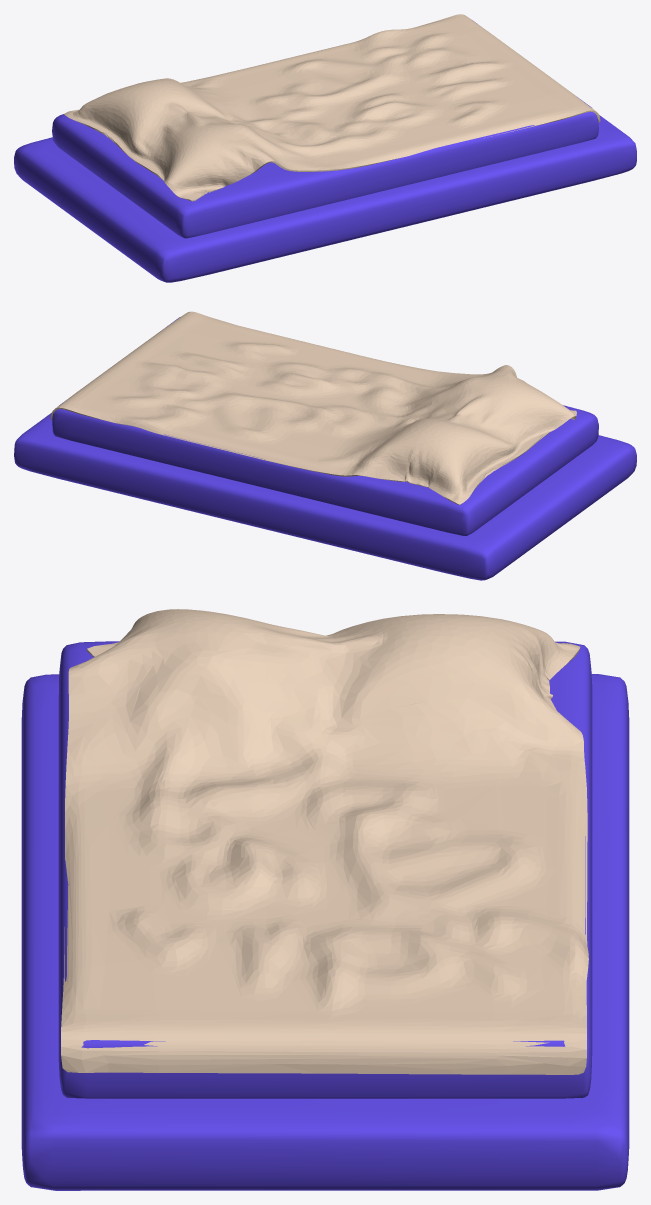
File: Bed.fbx
The picture shows the model from 3 angles, top to bottom: view 1: azimuth 30°, elevation 25°; view 2: azimuth 150°, elevation 25°; view 3: azimuth 270°, elevation 25°; orthographic projection. The views are drawn at different scales.
Visible parts, largest first — view 1: Plane.003; view 2: Plane.003; view 3: Plane.003.
Part boxes in pixels (left/top/right/bottom): Plane.003: left=14, top=14, right=636, bottom=282; Plane.003: left=14, top=311, right=636, bottom=580; Plane.003: left=21, top=609, right=629, bottom=1190.
Bounding box in the file's own units: 1267 × 260 × 701.
